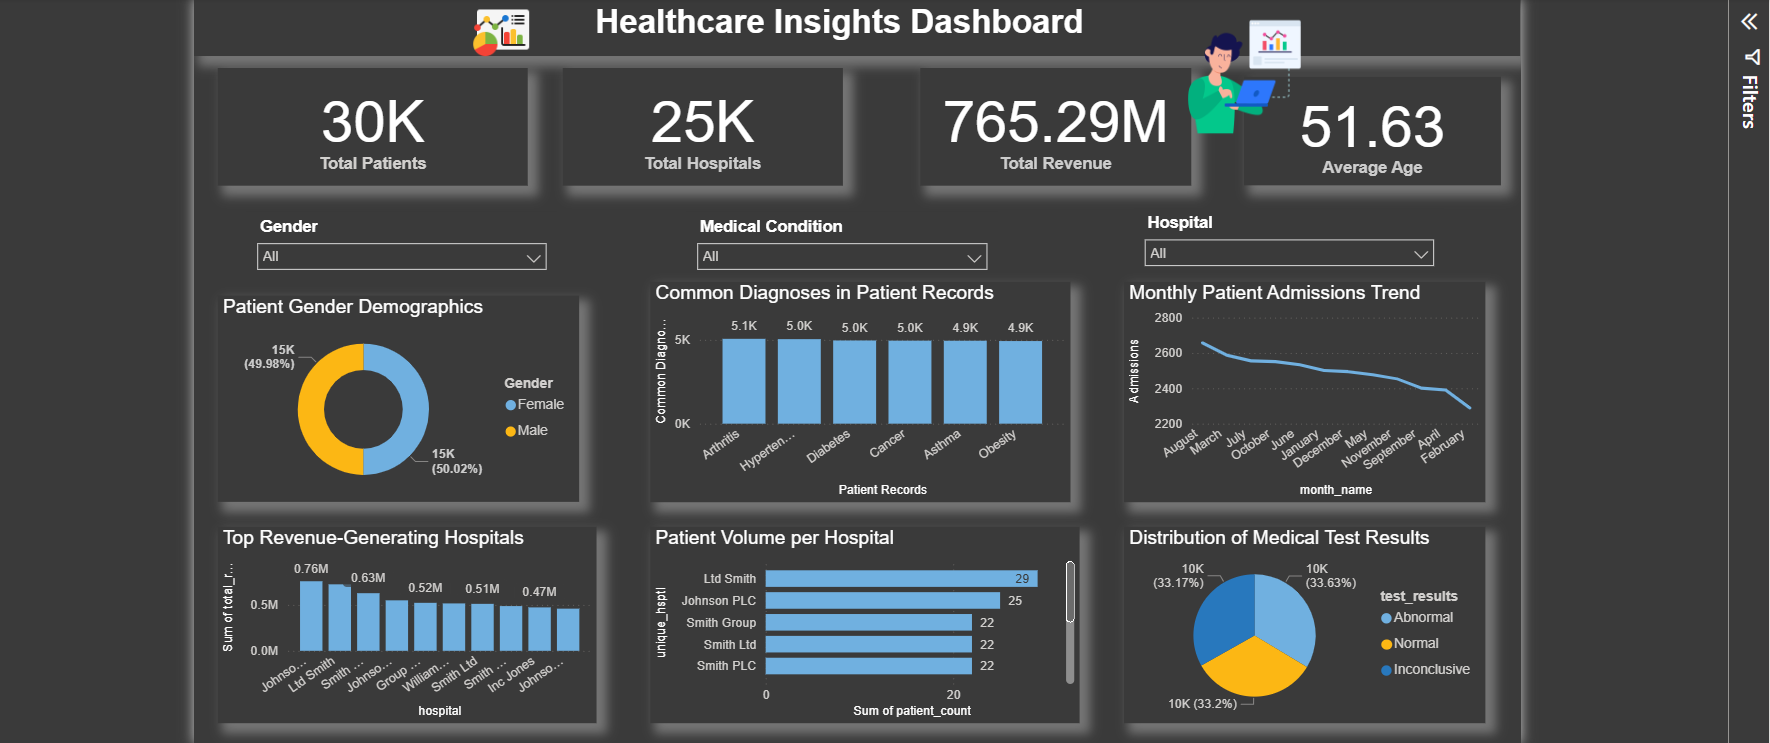

Layout of this report page (visuals, bound fields, positions):
{"tool":"powerbi","page":{"name":"Page 1","canvas":[1280,720],"ordinal":0},"visuals":[{"type":"actionButton","box":[0,0,100,40],"z":0},{"type":"textbox","box":[0,0,1280.3,56.3],"z":1000},{"type":"card","fields":{"Values":["Sum(Table (2).Column1)"]},"box":[355.8,67.3,270.2,113.7],"z":2000},{"type":"card","fields":{"Values":["Sum(Table (3).Column1)"]},"box":[700.7,67.3,261.7,113.7],"z":3000},{"type":"card","fields":{"Values":["Sum(Table (4).Column1)"]},"box":[1013.7,75.8,248.2,105.2],"z":4000},{"type":"donutChart","title":"Patient Gender Demographics","fields":{"Category":["gender_disof_patients.gender"],"Y":["Sum(gender_disof_patients.number_of_patients)"]},"box":[23.2,287.4,348.5,199.3],"z":5000},{"type":"clusteredColumnChart","title":"Common Diagnoses in Patient Records","fields":{"Category":["Most_common_con.medical_condition"],"Y":["Sum(Most_common_con.most_common)"]},"box":[440.2,273.9,406,212.8],"z":6000},{"type":"lineChart","title":"Monthly Patient Admissions Trend","fields":{"Category":["Monthly_adm_trend.month_name"],"Y":["Sum(Monthly_adm_trend.monthly_admissions)"]},"box":[897.6,273.9,348.5,212.8],"z":7000},{"type":"lineStackedColumnComboChart","title":"Top Revenue-Generating Hospitals","fields":{"Category":["Total_revenue_hsptl.hospital"],"Y":["Sum(Total_revenue_hsptl.total_revenue)"]},"box":[23.2,509.9,365.6,189.5],"z":8000},{"type":"clusteredBarChart","title":"Patient Volume per Hospital","fields":{"Category":["numberof_patients.unique_hsptl"],"Y":["Sum(numberof_patients.patient_count)"]},"box":[440.2,509.9,414.5,189.5],"z":9000},{"type":"pieChart","title":"Distribution of Medical Test Results","fields":{"Category":["most_cmn_testresults.test_results"],"Y":["Sum(most_cmn_testresults.most_common)"]},"box":[897.6,509.9,348.5,189.5],"z":10000},{"type":"slicer","fields":{"Values":["gender_disof_patients.gender"]},"box":[50.1,206.7,299.6,70.9],"z":11000},{"type":"slicer","fields":{"Values":["Most_common_con.medical_condition"]},"box":[475.3,206.3,300.4,57.9],"z":12000},{"type":"slicer","fields":{"Values":["Total_revenue_hsptl.hospital"]},"box":[907.3,203,299.6,61.1],"z":13000},{"type":"card","fields":{"Values":["Sum(Table.Column2)"]},"box":[23.2,67.3,299.6,113.7],"z":14000},{"type":"image","box":[863.3,13.5,299.6,126],"z":15000},{"type":"image","box":[172.5,0,247.3,67.6],"z":16000}]}

Visuals, with their boxes on the page's 1280x720 design canvas (x1, y1, x2, y2). These are canvas units, not pixel positions in the 1770x743 screenshot, which may show the page scaled, cropped or inside an application window:
actionButton: detection(0, 0, 100, 40)
textbox: detection(0, 0, 1280, 56)
card - Sum(Table (2).Column1): detection(356, 67, 626, 181)
card - Sum(Table (3).Column1): detection(701, 67, 962, 181)
card - Sum(Table (4).Column1): detection(1014, 76, 1262, 181)
"Patient Gender Demographics" donutChart: detection(23, 287, 372, 487)
"Common Diagnoses in Patient Records" clusteredColumnChart: detection(440, 274, 846, 487)
"Monthly Patient Admissions Trend" lineChart: detection(898, 274, 1246, 487)
"Top Revenue-Generating Hospitals" lineStackedColumnComboChart: detection(23, 510, 389, 699)
"Patient Volume per Hospital" clusteredBarChart: detection(440, 510, 855, 699)
"Distribution of Medical Test Results" pieChart: detection(898, 510, 1246, 699)
slicer - gender_disof_patients.gender: detection(50, 207, 350, 278)
slicer - Most_common_con.medical_condition: detection(475, 206, 776, 264)
slicer - Total_revenue_hsptl.hospital: detection(907, 203, 1207, 264)
card - Sum(Table.Column2): detection(23, 67, 323, 181)
image: detection(863, 14, 1163, 140)
image: detection(172, 0, 420, 68)
